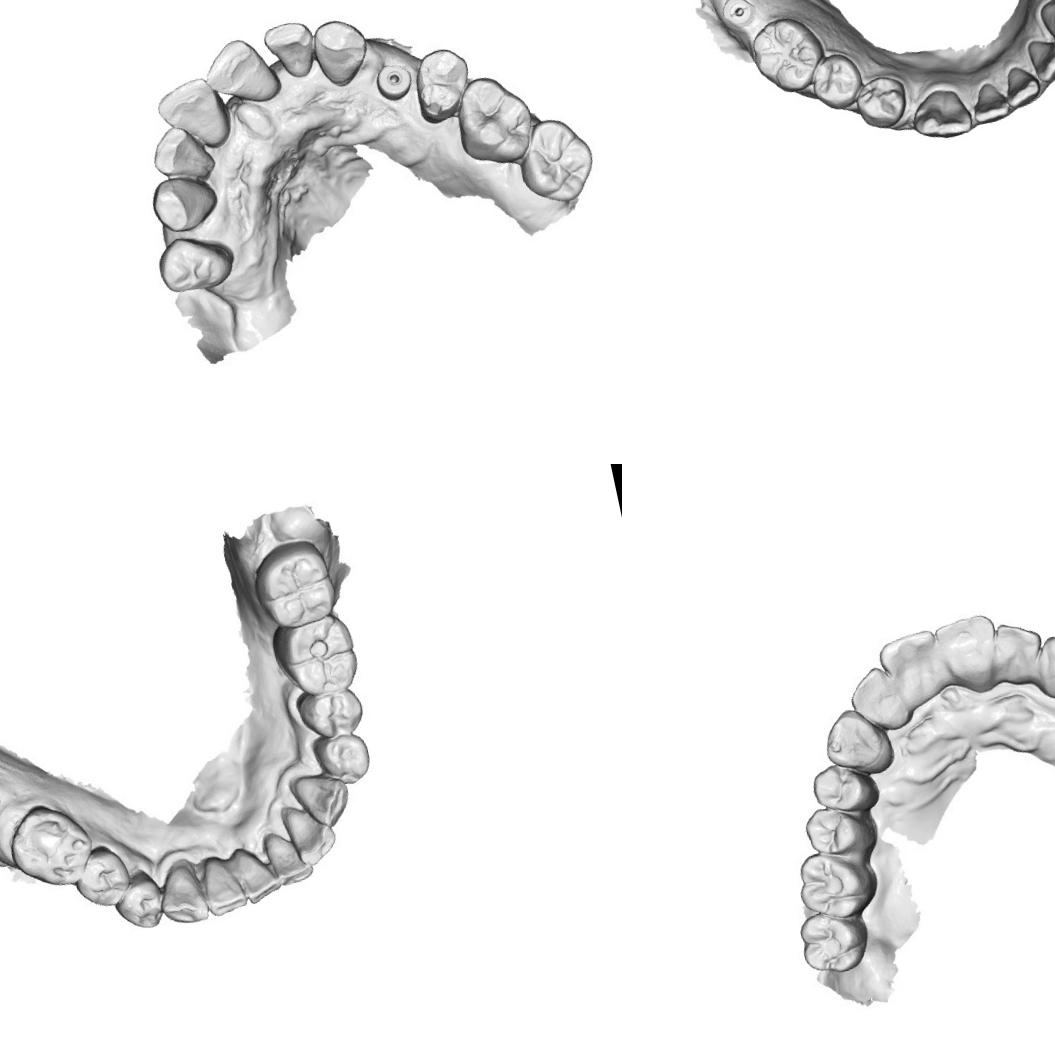canine: (818, 698, 894, 778), (304, 12, 376, 94), (150, 854, 218, 936), (147, 169, 225, 237), (286, 763, 358, 834), (904, 88, 952, 143), (1028, 628, 1055, 704), (1034, 0, 1055, 51)
implant: (370, 55, 418, 105)
implant_minus: (718, 0, 760, 32)
incisor: (198, 31, 284, 118), (929, 607, 1006, 700), (154, 74, 230, 154), (872, 625, 948, 705), (842, 662, 910, 739), (989, 614, 1050, 692), (144, 121, 218, 184), (278, 800, 341, 870), (259, 16, 321, 86), (199, 849, 254, 921), (229, 840, 286, 909), (264, 830, 320, 889), (928, 85, 978, 144), (965, 76, 1014, 128), (1000, 62, 1044, 111), (1023, 34, 1055, 87)
molar: (244, 530, 341, 636), (445, 67, 542, 172), (509, 110, 603, 212), (0, 796, 95, 894), (266, 610, 362, 704), (744, 8, 834, 100), (790, 840, 883, 928), (793, 902, 879, 983)
premolar: (150, 224, 246, 304), (406, 40, 480, 130), (800, 798, 880, 864), (67, 839, 133, 914), (808, 755, 883, 820), (291, 680, 364, 746), (308, 726, 376, 792), (804, 46, 868, 114), (108, 866, 170, 936), (849, 70, 914, 134)
